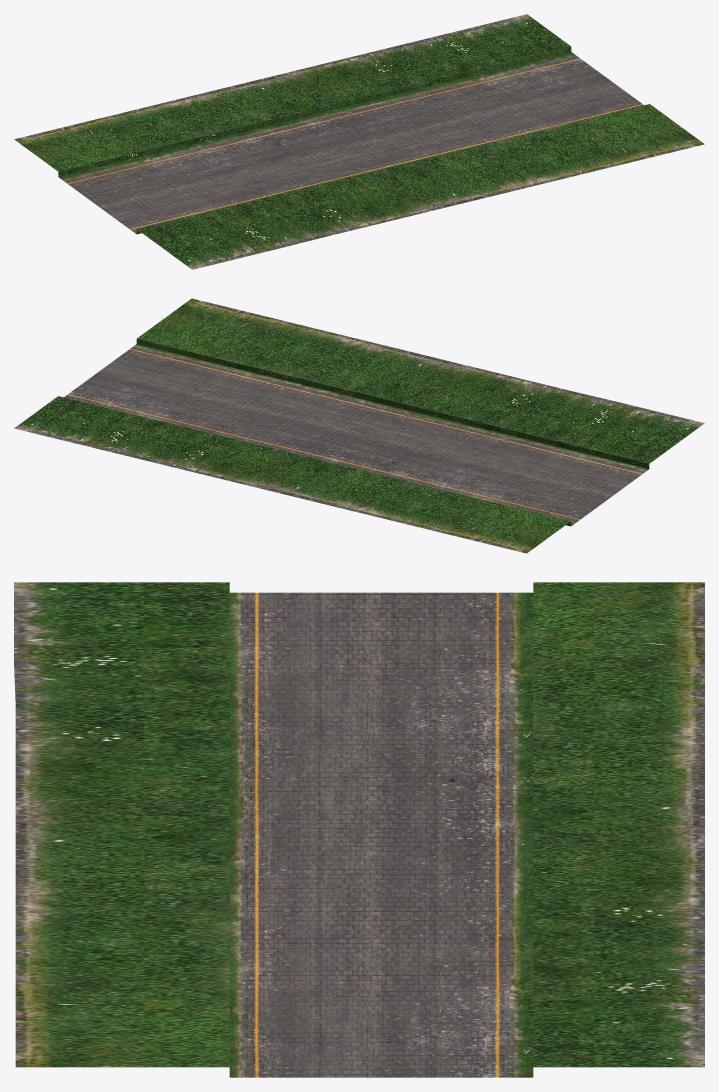
The model's file is road.glb.
3 views of the same model, one above another, from view 1: azimuth 30°, elevation 25°; view 2: azimuth 150°, elevation 25°; view 3: azimuth 270°, elevation 25° (orthographic). The views are drawn at different scales.
Parts seen in each view (by area): view 1: road; view 2: road; view 3: road.
Boxes of the visible parts, x1=… form: road: x1=14, y1=14, x2=704, y2=269; road: x1=14, y1=298, x2=704, y2=553; road: x1=14, y1=582, x2=704, y2=1077.
Size of what is drawn, in the model's own units: 32 by 0.3176 by 19.26.
Materials: 1 (1 with a texture image).
